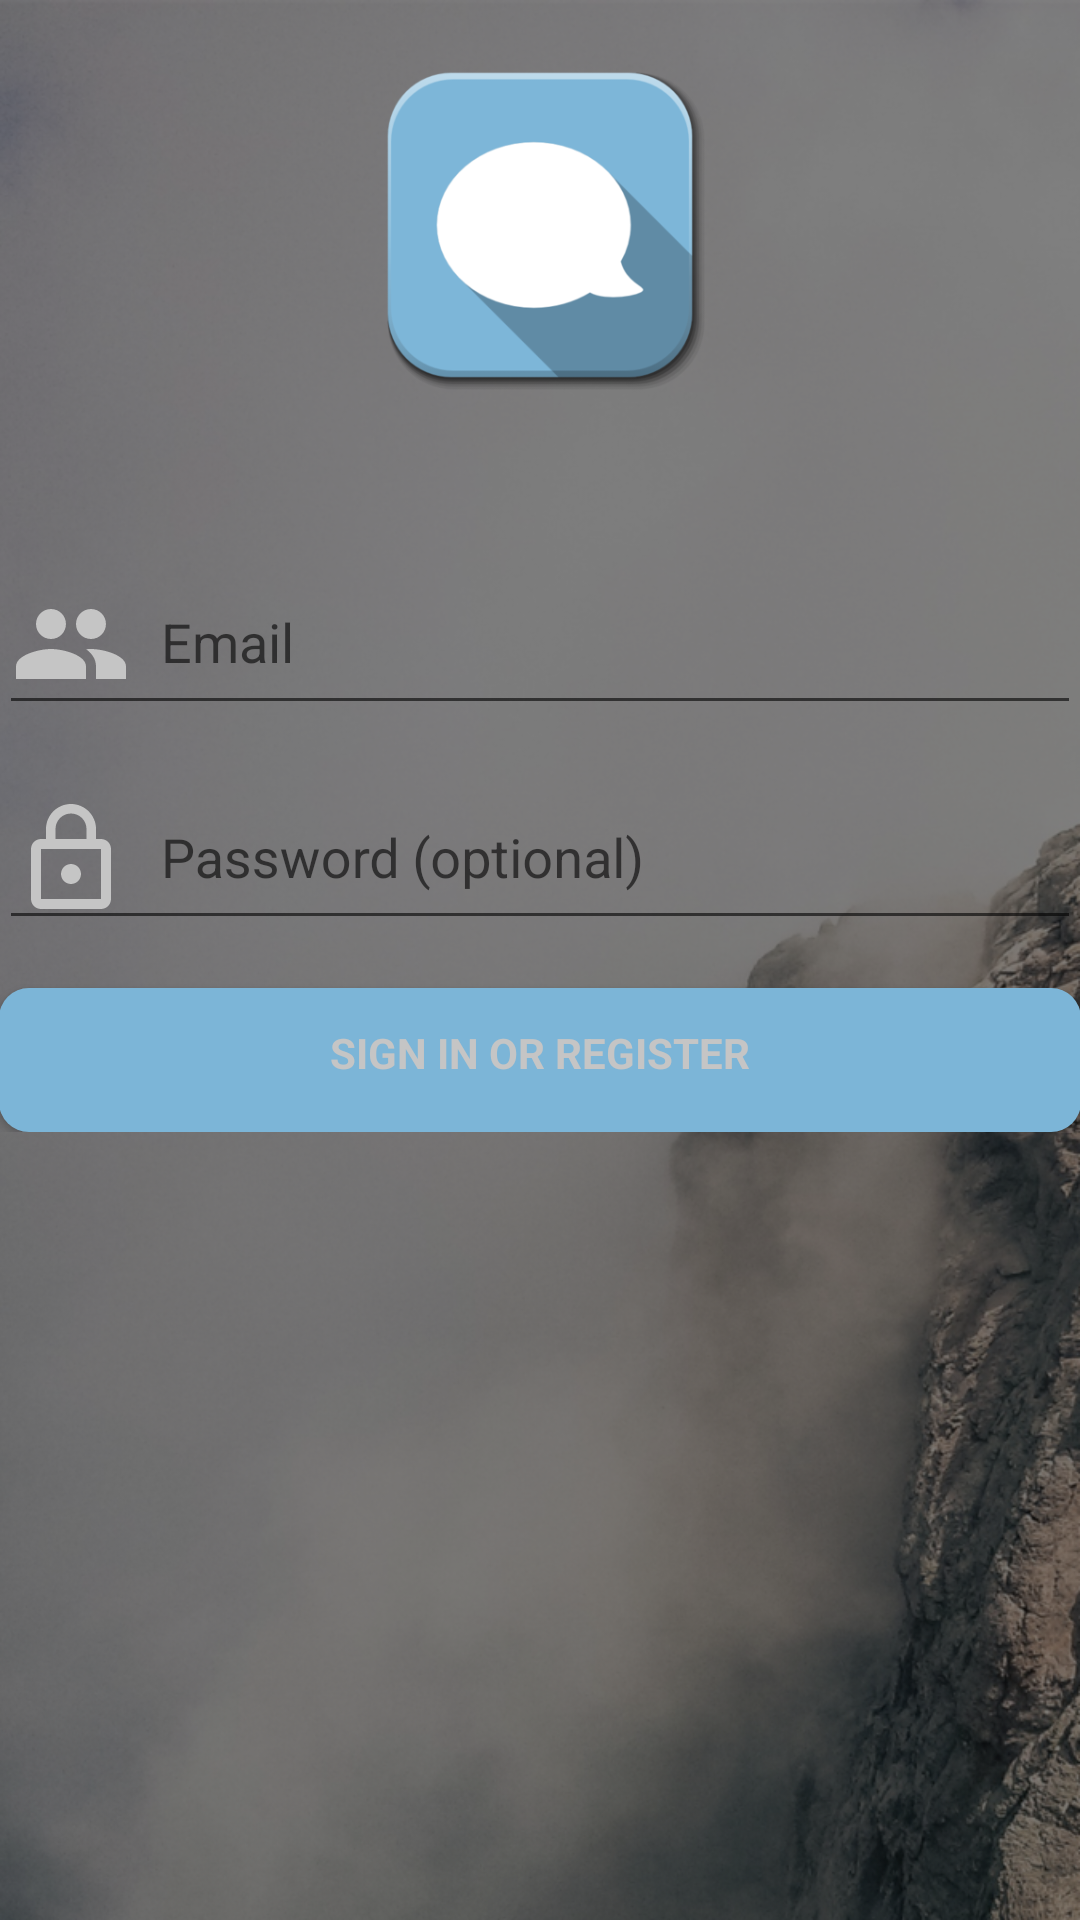

Icon click points for this 1080 × 1920 phone screenshot, format [x,y]:
app: [543,228]
